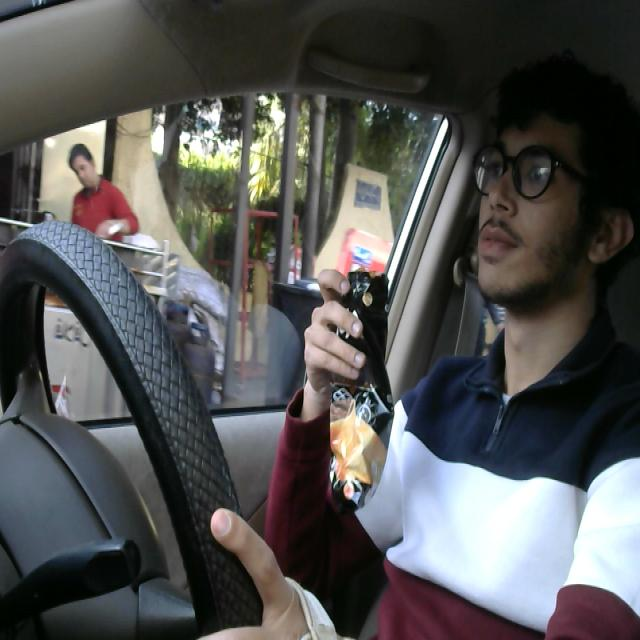eating: (310, 258, 402, 524)
